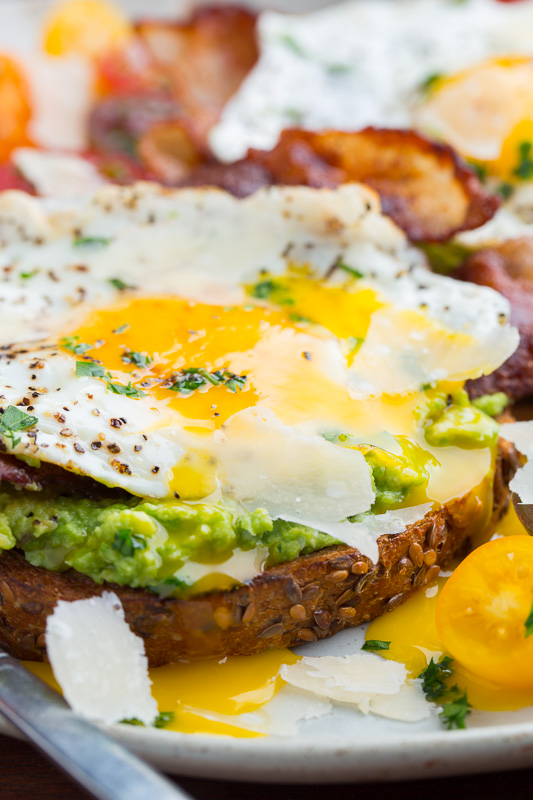fried egg: (6, 206, 456, 499)
slice of bread: (6, 523, 458, 652)
